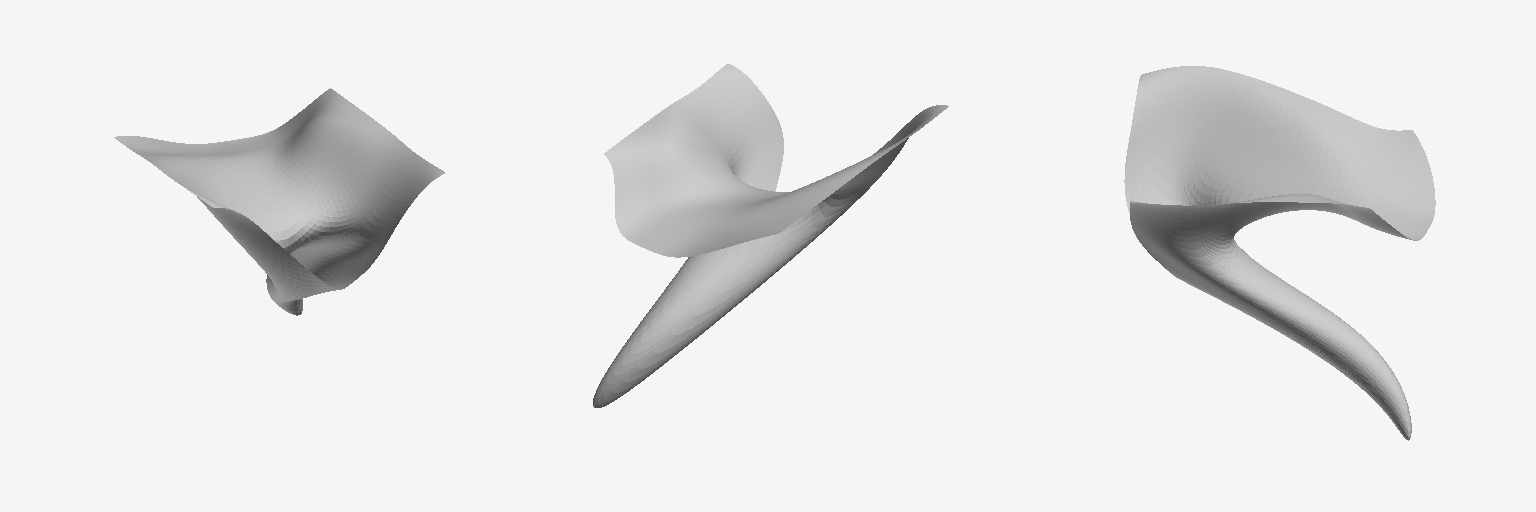
The model's file is terrain3.obj.
3 renders of one model, left to right at view 1: azimuth 30°, elevation 25°; view 2: azimuth 150°, elevation 25°; view 3: azimuth 270°, elevation 25°, orthographic.
Bounding box in the file's own units: 2.1 × 2.23 × 2.38.